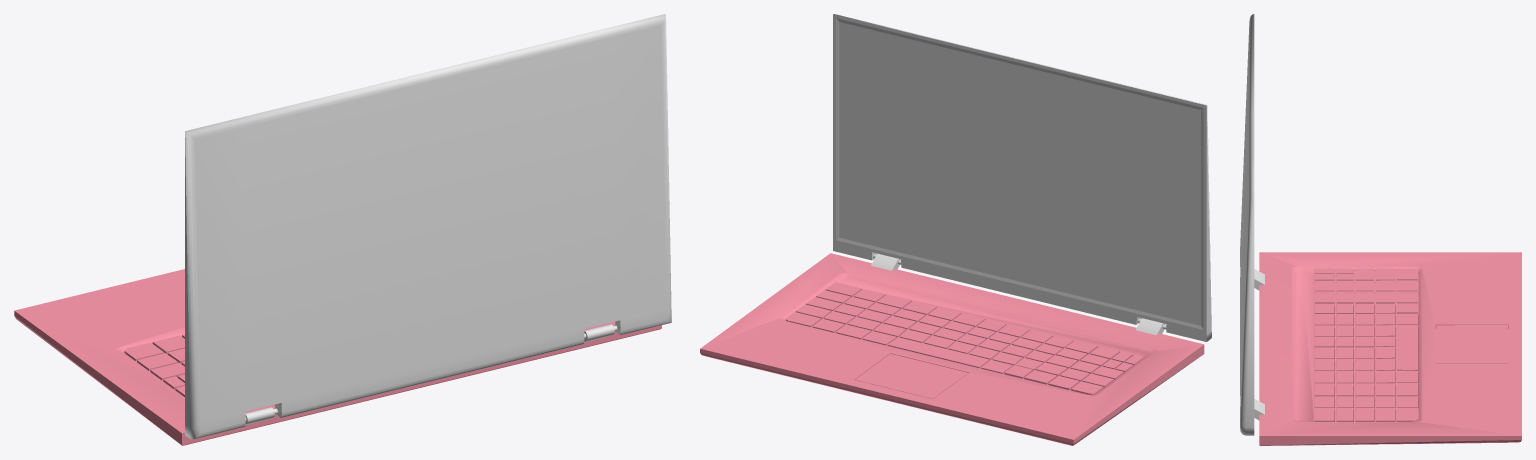
Rendered from ordi100%.FBX.
3 views of the same model, side by side, from view 1: azimuth 30°, elevation 25°; view 2: azimuth 150°, elevation 25°; view 3: azimuth 270°, elevation 25° (orthographic). The views are drawn at different scales.
Parts seen in each view (by area): view 1: Box002, Box001; view 2: Box002, Box001; view 3: Box001, Box002.
Boxes of the visible parts, left/top/right/bottom form: Box002: left=185, top=14, right=671, bottom=439; Box001: left=14, top=269, right=661, bottom=445; Box002: left=833, top=14, right=1211, bottom=341; Box001: left=700, top=253, right=1204, bottom=445; Box001: left=1259, top=252, right=1521, bottom=445; Box002: left=1240, top=14, right=1254, bottom=435.
Bounding box in the file's own units: 68.59 × 43.87 × 44.53.
